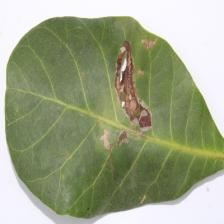leaf miner: (4, 15, 223, 219), (113, 39, 152, 134)
